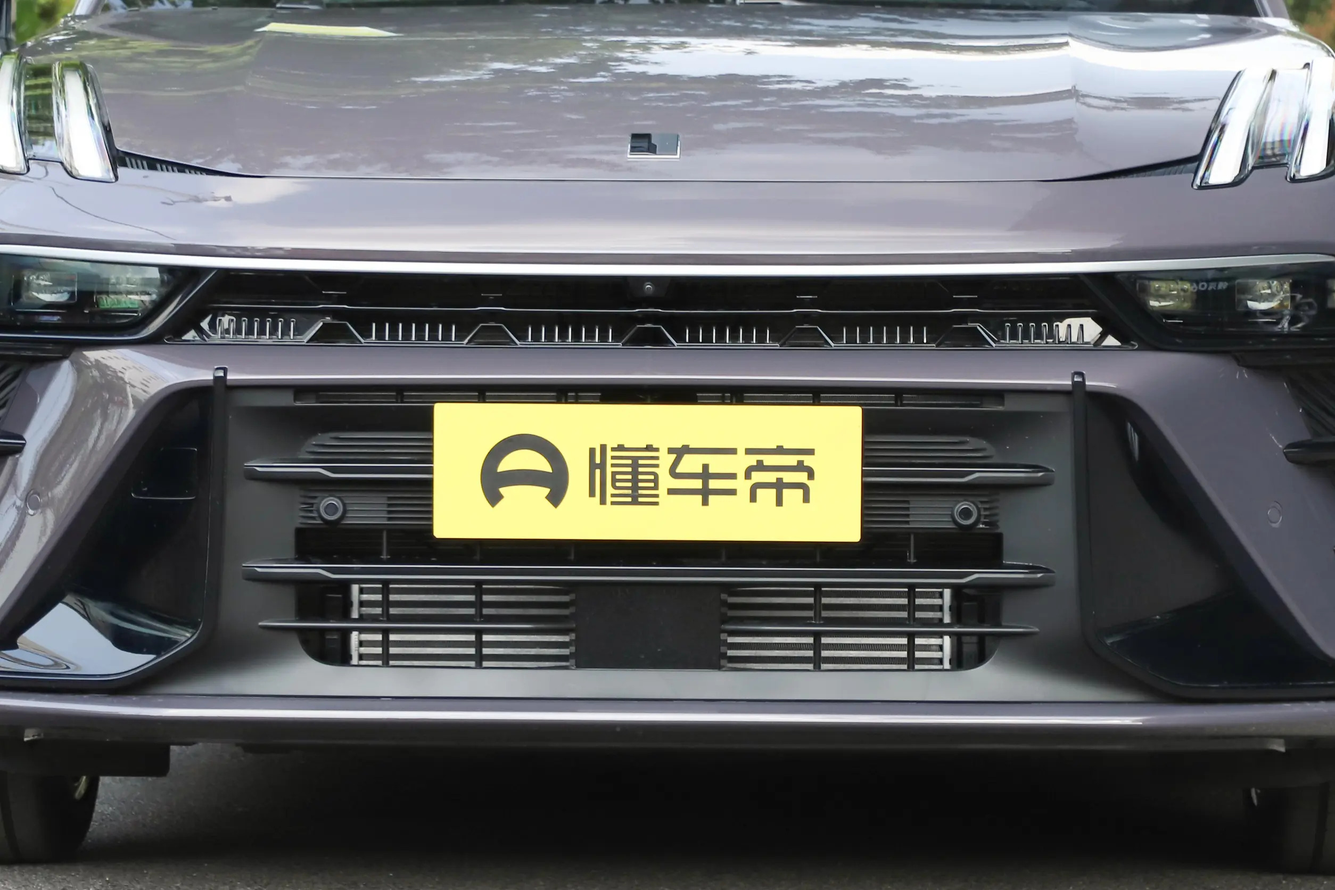LINK&CO: (630, 133, 678, 155)
